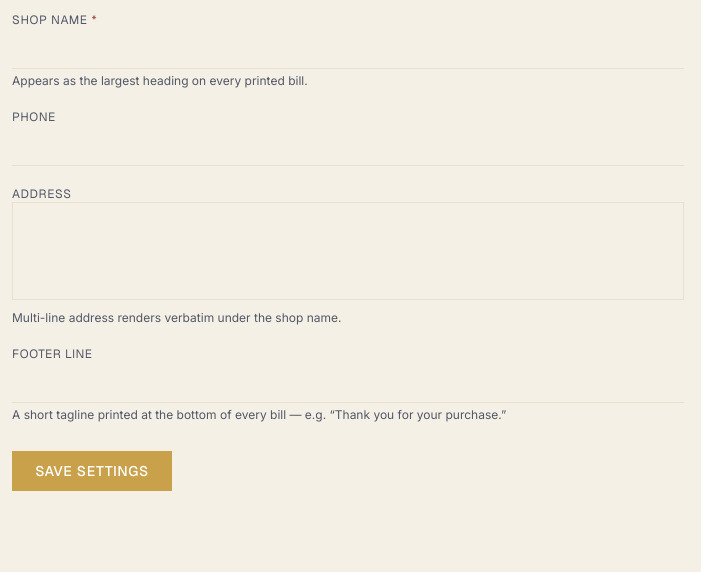
Test: SettingsForm — save behavior › surfaces success banner after a successful save
Type "Saved" into the field labelled "Shop name*" at (348, 48), box [12,28,684,69]
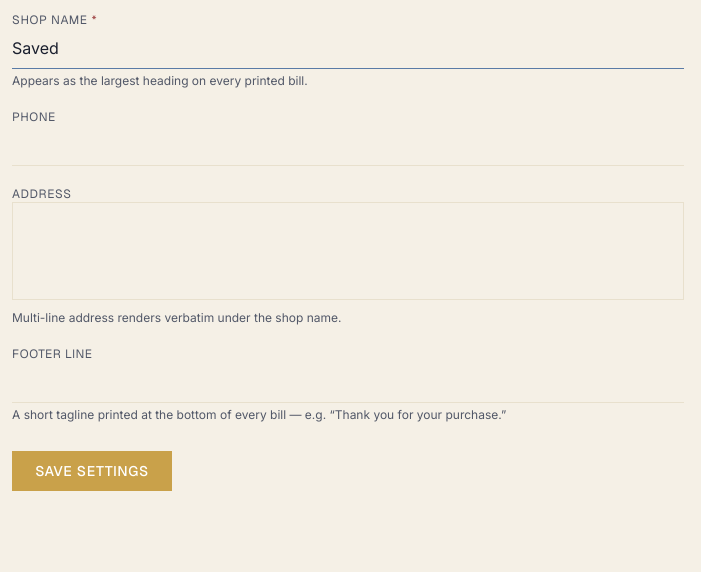
Click the button with test id "settings-save" at (92, 471), box [12,451,172,491]
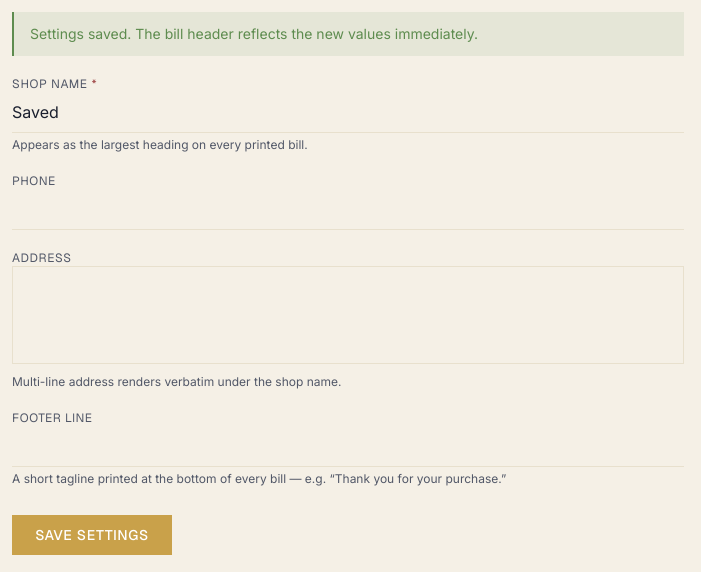
Check: the text with test id "settings-saved-banner" is shown, box [12,12,684,56]
